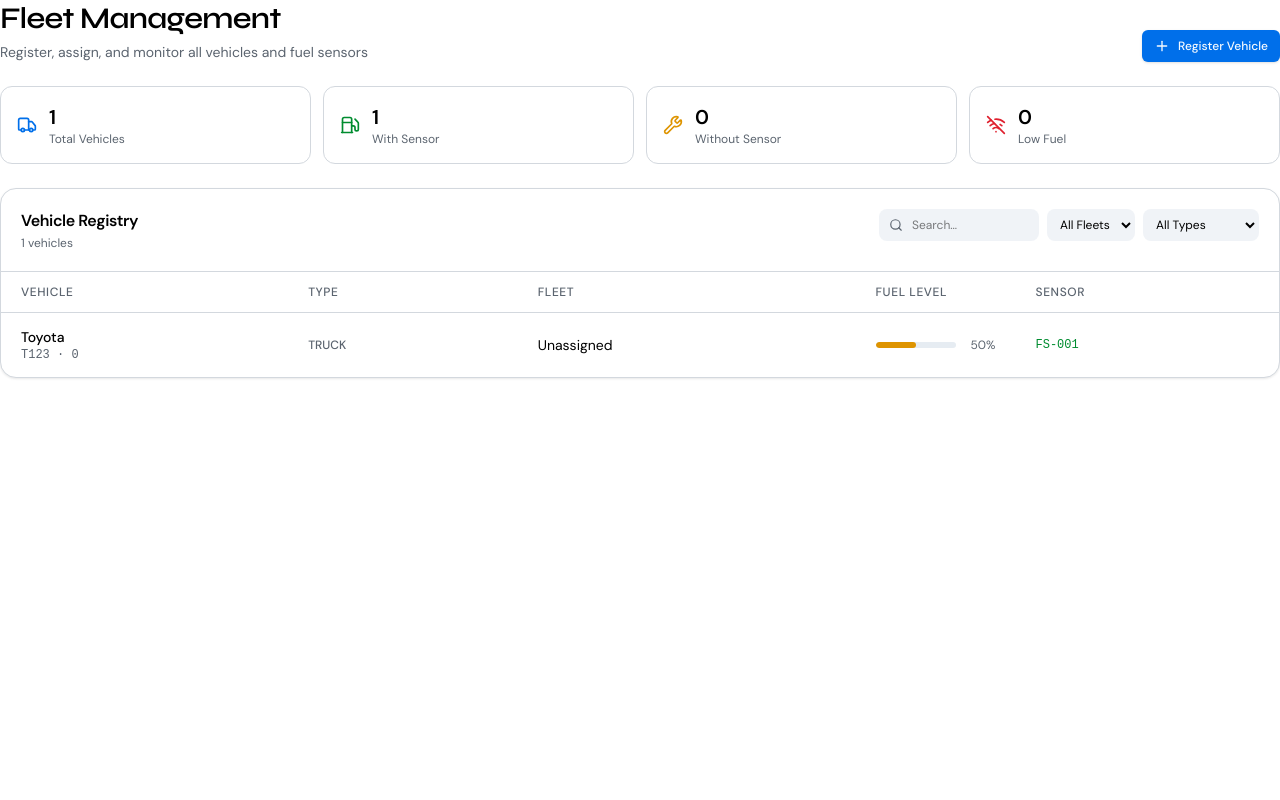
Test: Fleet Component › should display telemetry history with readings
The width and height of the screenshot is (1280, 800).
Expected: the text "T123 · 0" is shown, [21,348,79,362]
# Open row
Step 1. Click the text "Toyota" → click(43, 337), box [21,328,64,346]
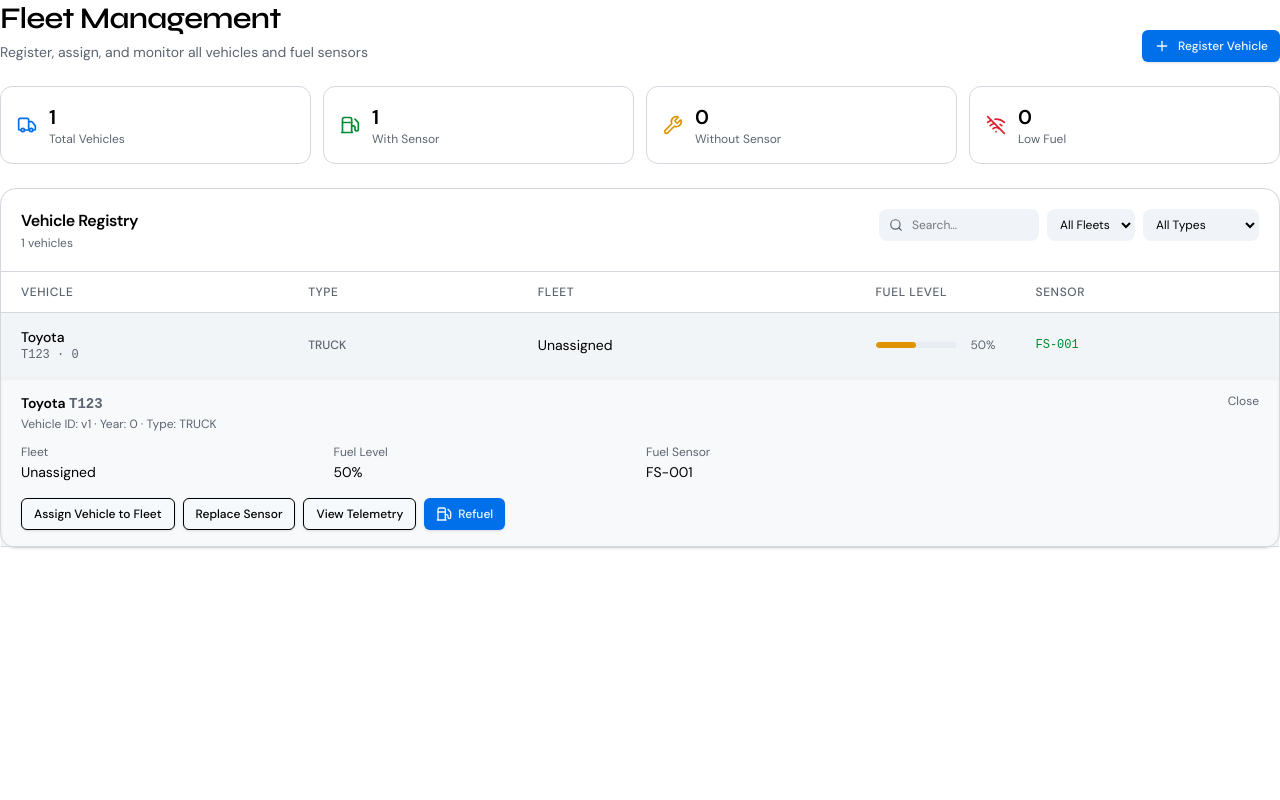
# Click View Telemetry
Step 2. Click the button "View Telemetry" → click(360, 514), box [304,498,416,530]
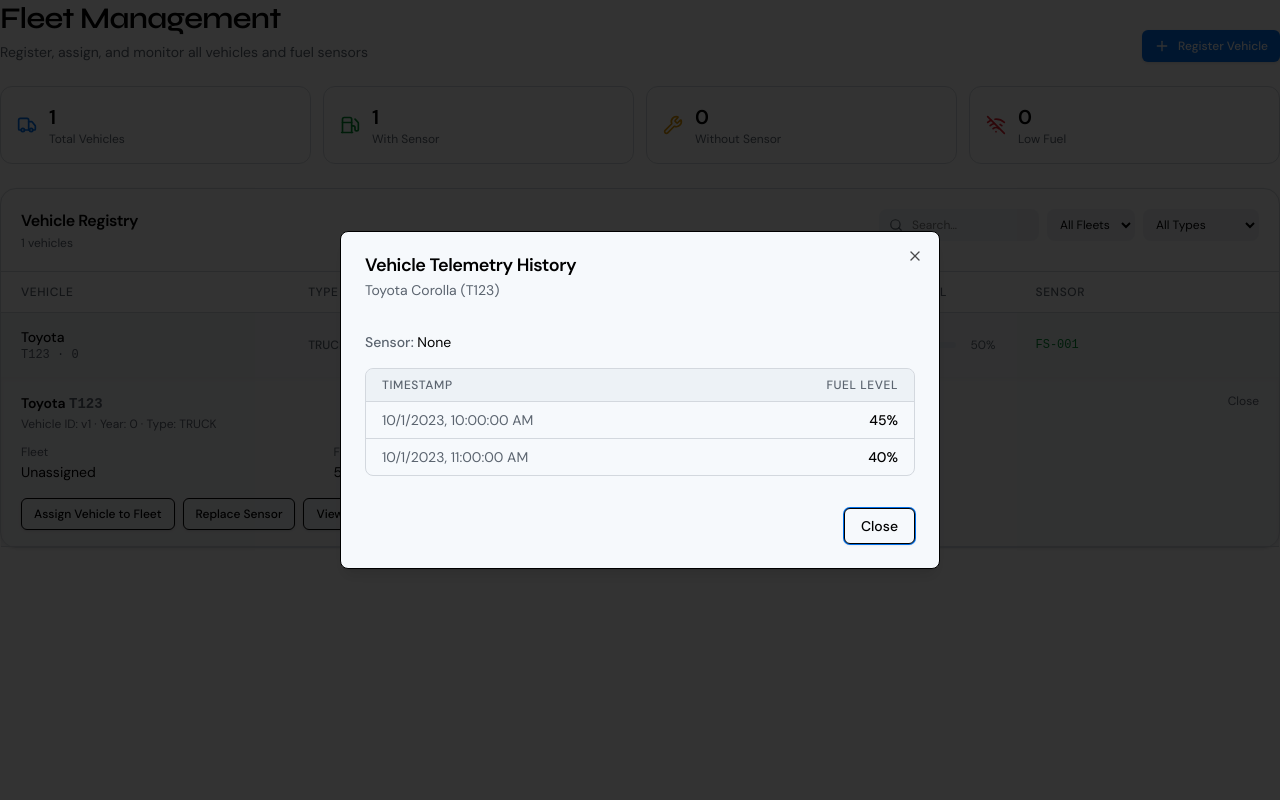
Now the text "45%" is shown, box [716,402,914,438]
Now the text "40%" is shown, box [716,438,914,475]
